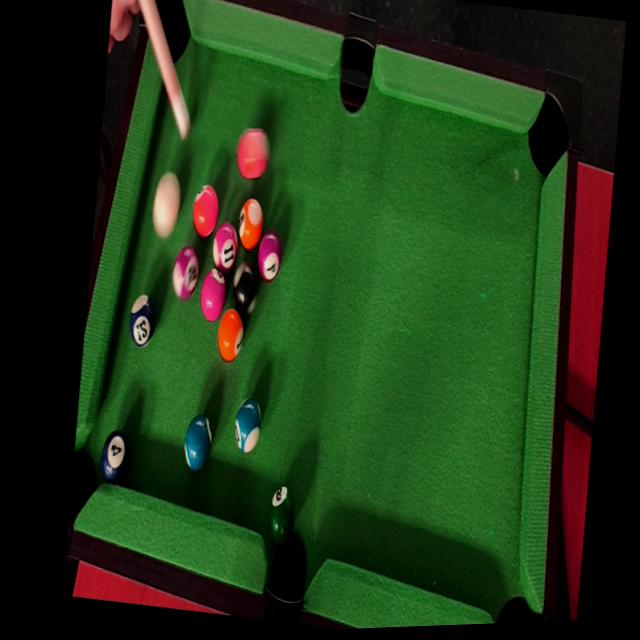cue ball: (146, 167, 191, 246)
other: (225, 118, 278, 188), (255, 477, 304, 552), (172, 411, 219, 482), (221, 252, 267, 324), (225, 389, 268, 460), (93, 424, 136, 495), (229, 189, 272, 258), (211, 303, 254, 371), (248, 225, 289, 292), (192, 265, 234, 330), (163, 241, 206, 304), (206, 216, 247, 277), (122, 290, 163, 351), (187, 182, 226, 245)
